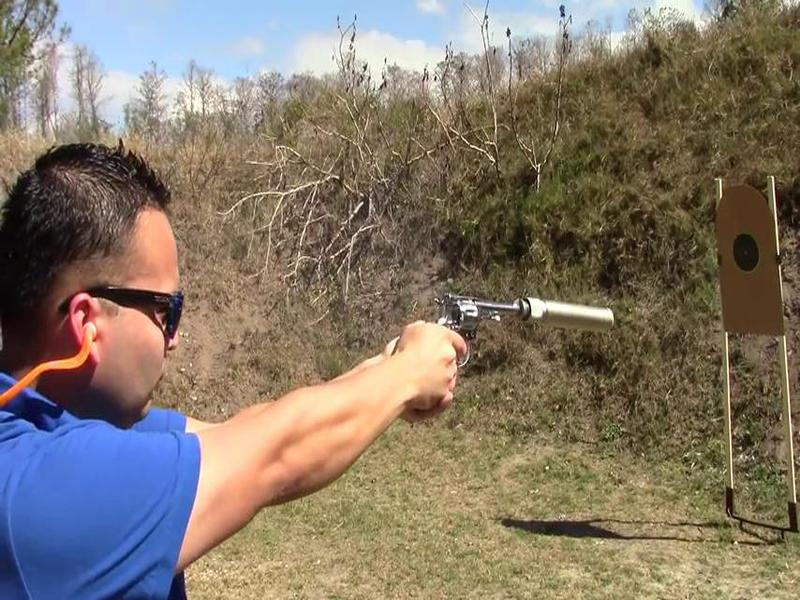Revolver: (403, 272, 533, 382)
